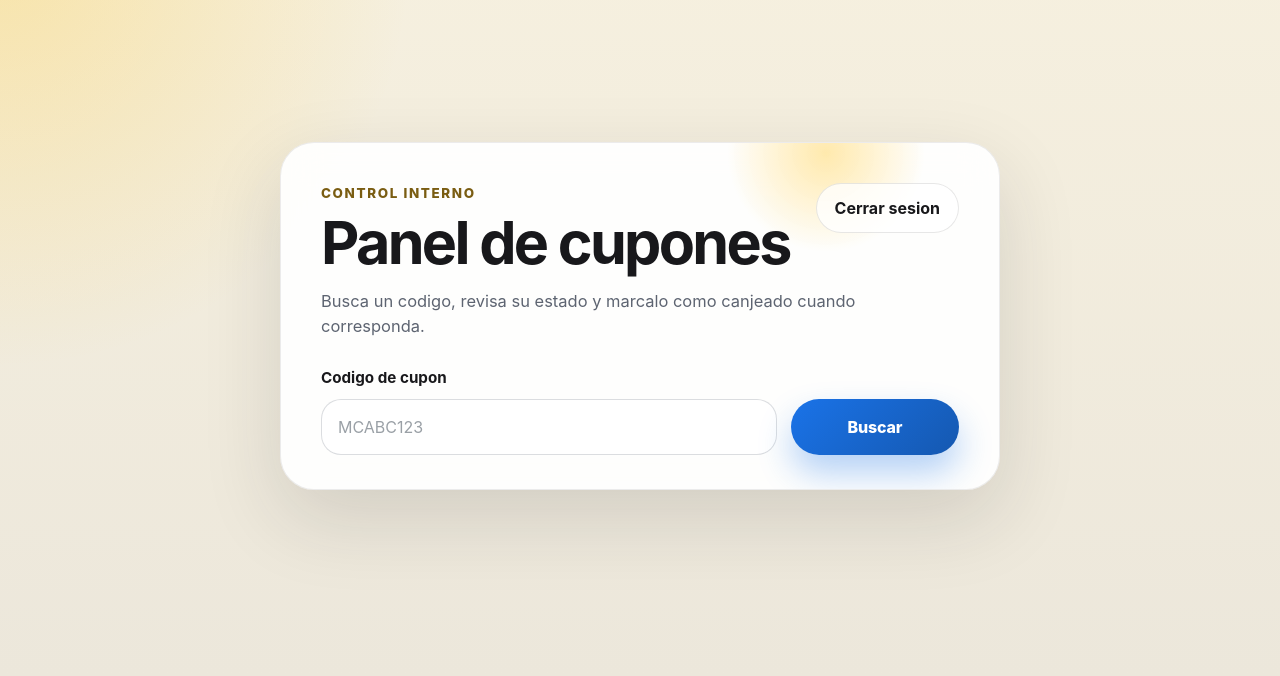
App › looks up and redeems a coupon from the admin panel
The width and height of the screenshot is (1280, 676).
In the field labelled "Codigo de cupon": (549, 427) [321,399,777,455], type "mcabc123"
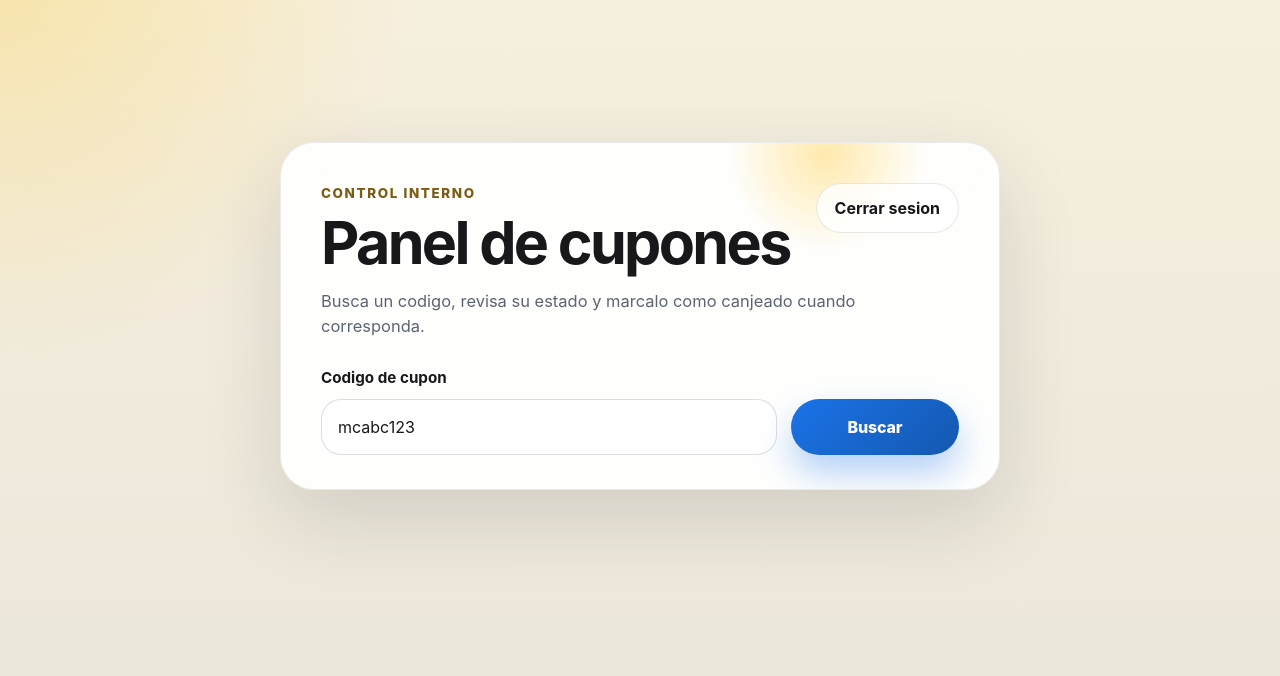
Click the button "Buscar": click(875, 427) [791,399,959,455]
(page scrolled)
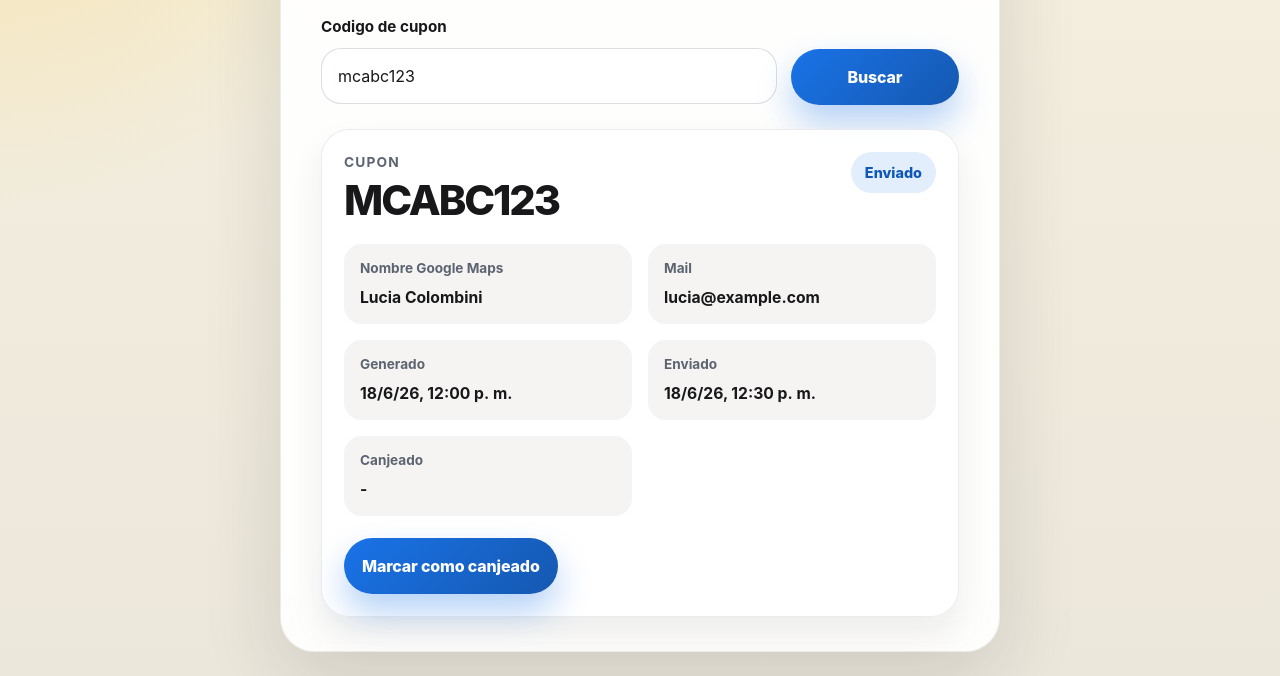
Expected: the text "Lucia Colombini" is shown, [360,288,482,307]
Expected: the text "MCABC123" is shown, [344,180,559,222]
Click the button "Marcar como canjeado": click(451, 566) [344,538,558,594]
(page scrolled)
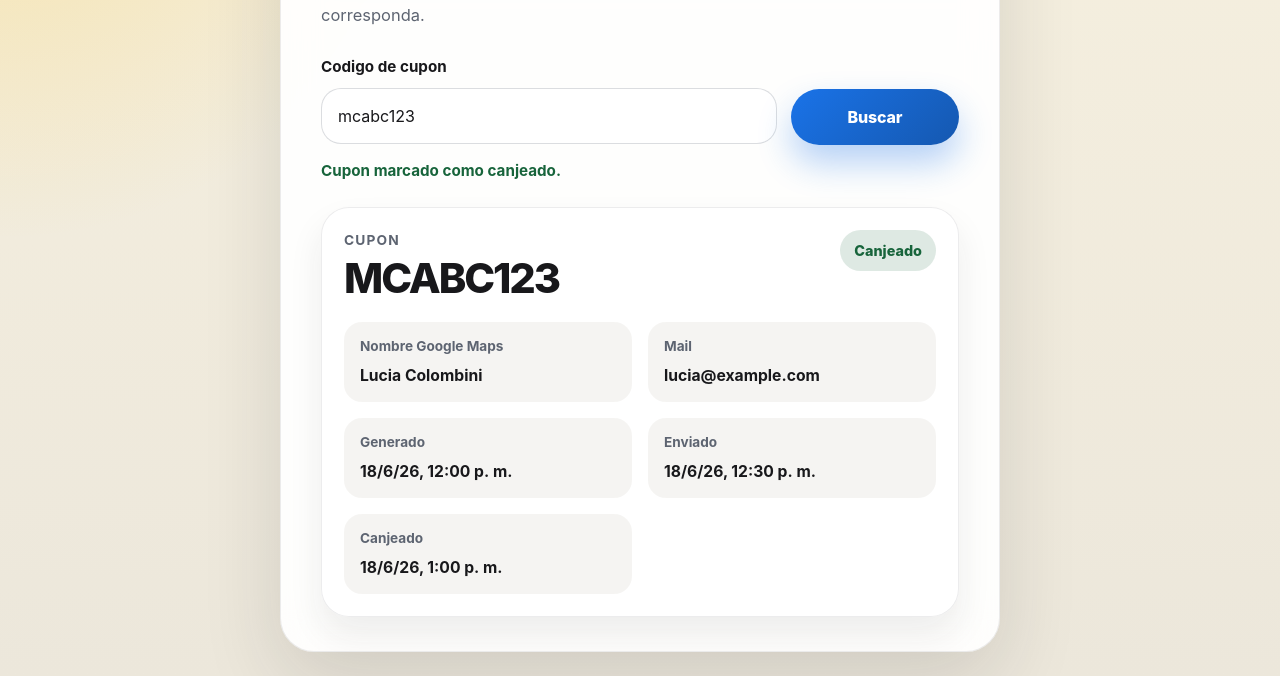
Expected: the text "Cupon marcado como canjeado." is shown, [321,161,561,180]
